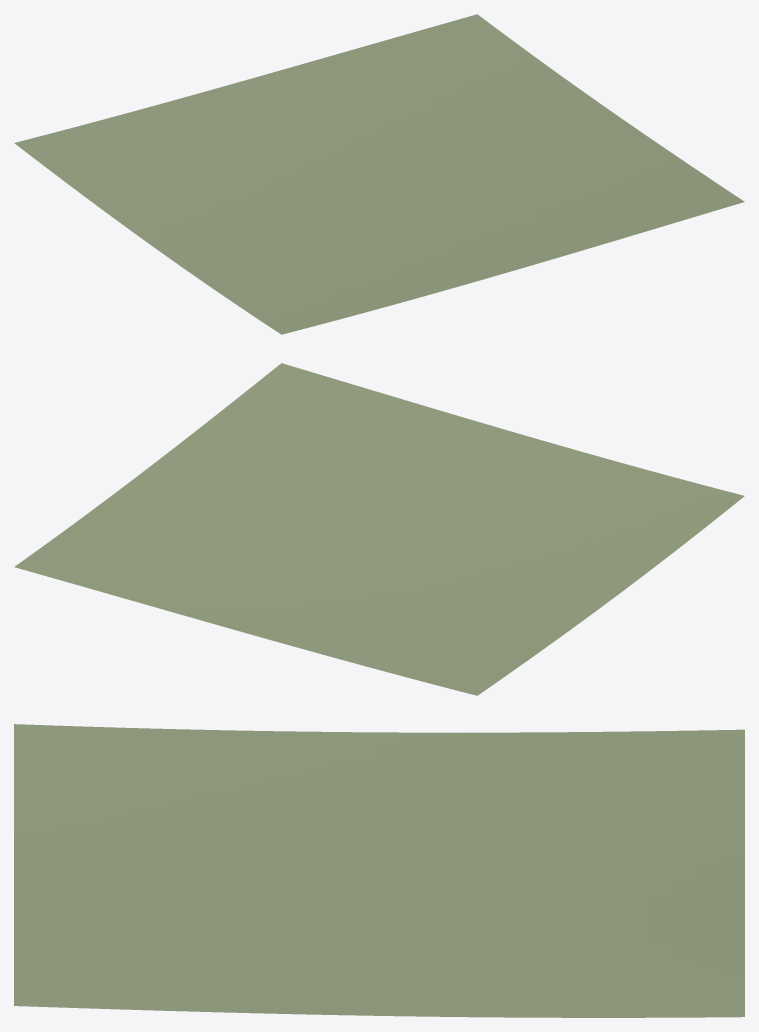
The model's file is expanse-25-25.glb.
3 views of the same model, one above another, from view 1: azimuth 30°, elevation 25°; view 2: azimuth 150°, elevation 25°; view 3: azimuth 270°, elevation 25° (orthographic). The views are drawn at different scales.
Parts seen in each view (by area): view 1: expanse-25-25; view 2: expanse-25-25; view 3: expanse-25-25.
Part boxes in pixels (left/top/right/bottom): expanse-25-25: left=14, top=14, right=744, bottom=334; expanse-25-25: left=14, top=363, right=744, bottom=695; expanse-25-25: left=14, top=724, right=744, bottom=1017.
Bounding box in the file's own units: 256 × 13.75 × 256.
